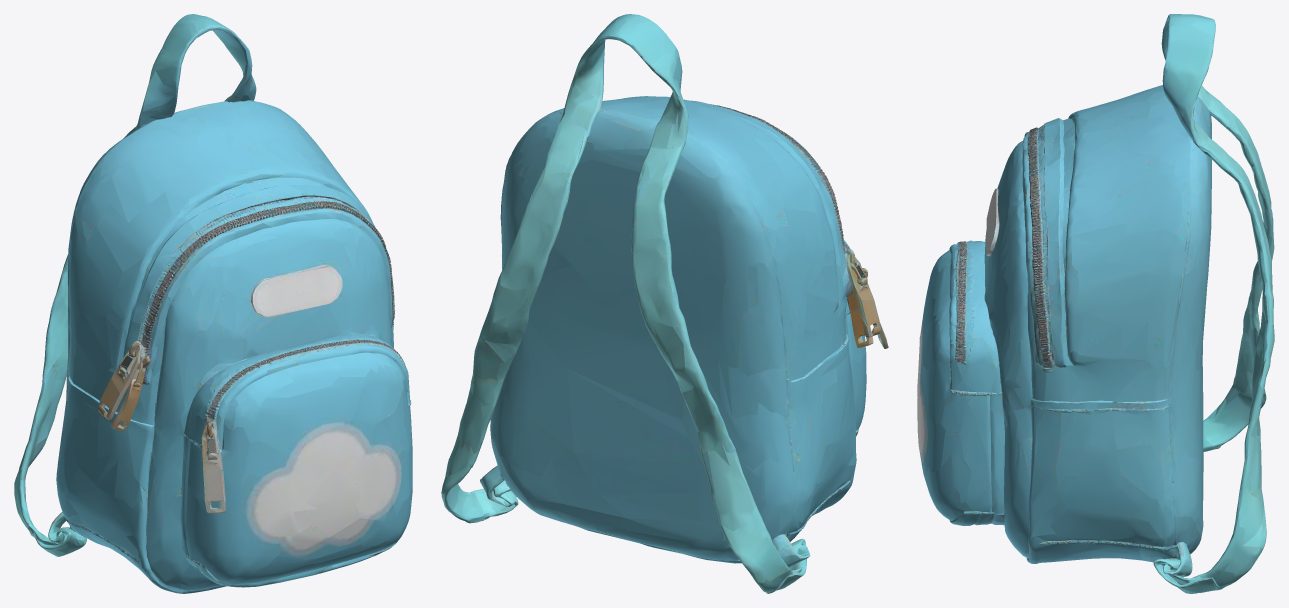
File: backpack_cyan_prop.glb
3 renders of one model, left to right at view 1: azimuth 30°, elevation 25°; view 2: azimuth 150°, elevation 25°; view 3: azimuth 270°, elevation 25°, orthographic. The views are drawn at different scales.
Visible parts, largest first — view 1: mesh_node; view 2: mesh_node; view 3: mesh_node.
Part boxes in pixels (x1,y1,x2,y2): mesh_node: [14, 14, 412, 593]; mesh_node: [441, 14, 888, 593]; mesh_node: [917, 14, 1274, 593].
Bounding box in the file's own units: 1.26 × 1.9 × 1.2.
1 material, 1 textured.
